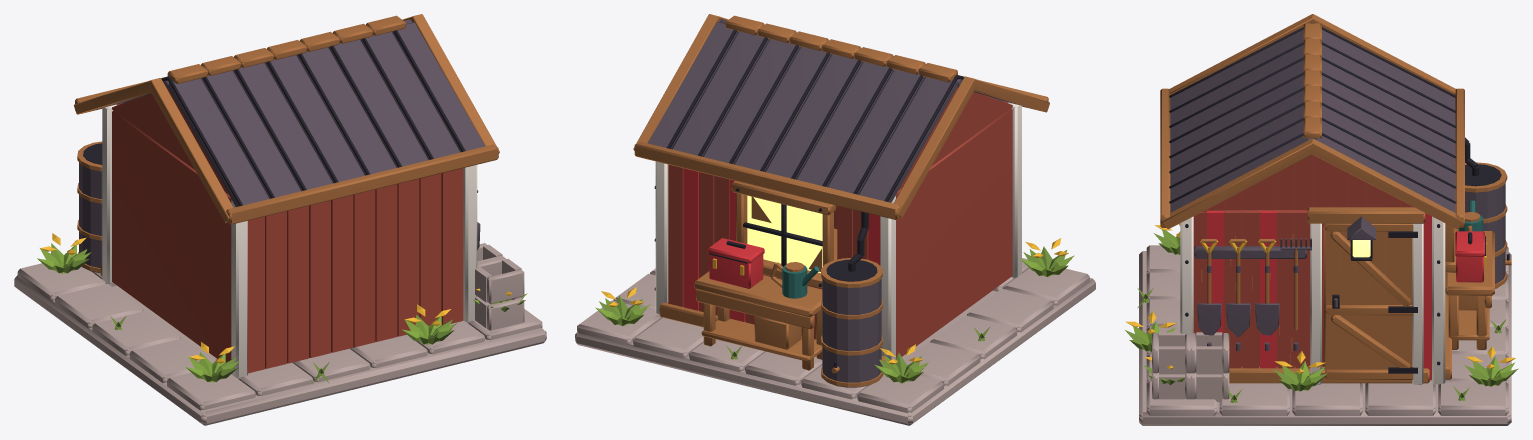
The model's file is bld.shed.glb.
3 renders of one model, left to right at view 1: azimuth 30°, elevation 25°; view 2: azimuth 150°, elevation 25°; view 3: azimuth 270°, elevation 25°, orthographic. The views are drawn at different scales.
Bounding box in the file's own units: 4.7 × 3.57 × 4.76.
